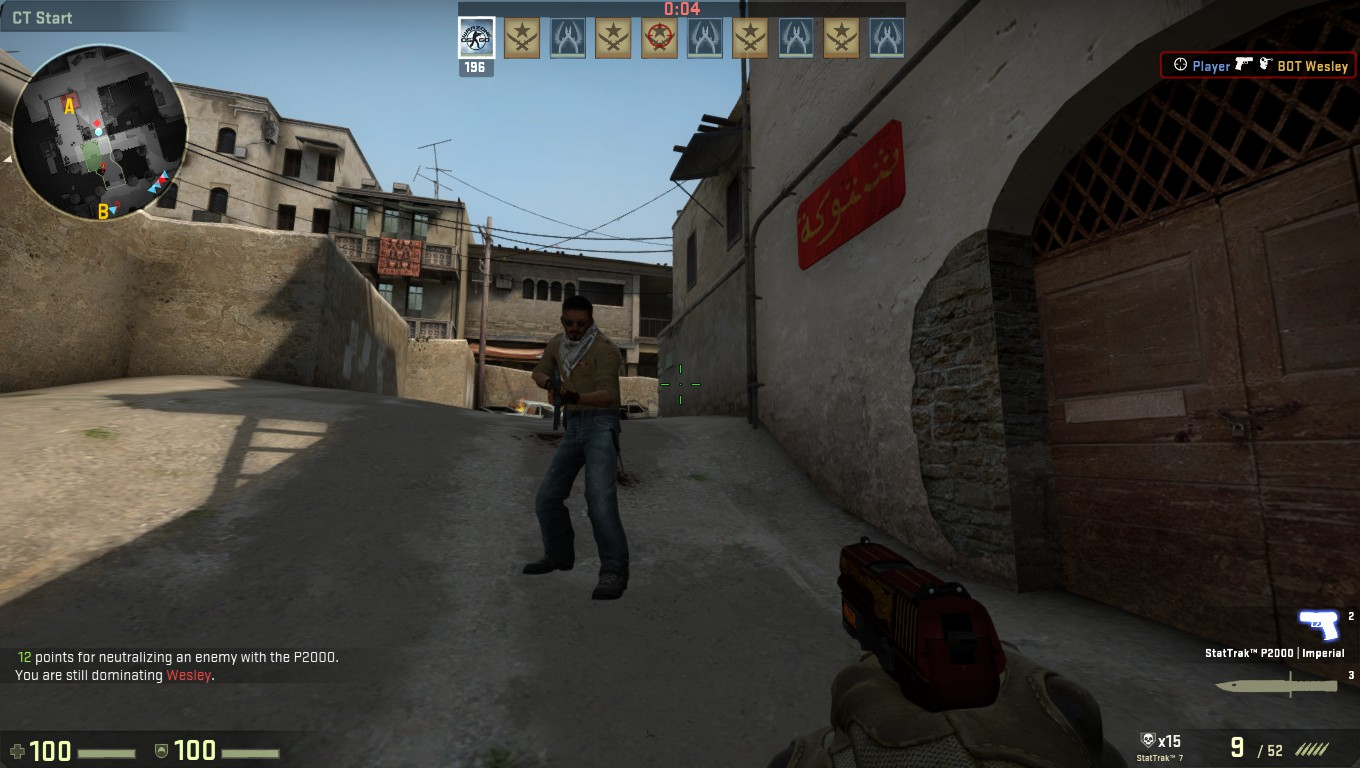t: (527, 293, 636, 603)
th: (548, 294, 607, 344)
